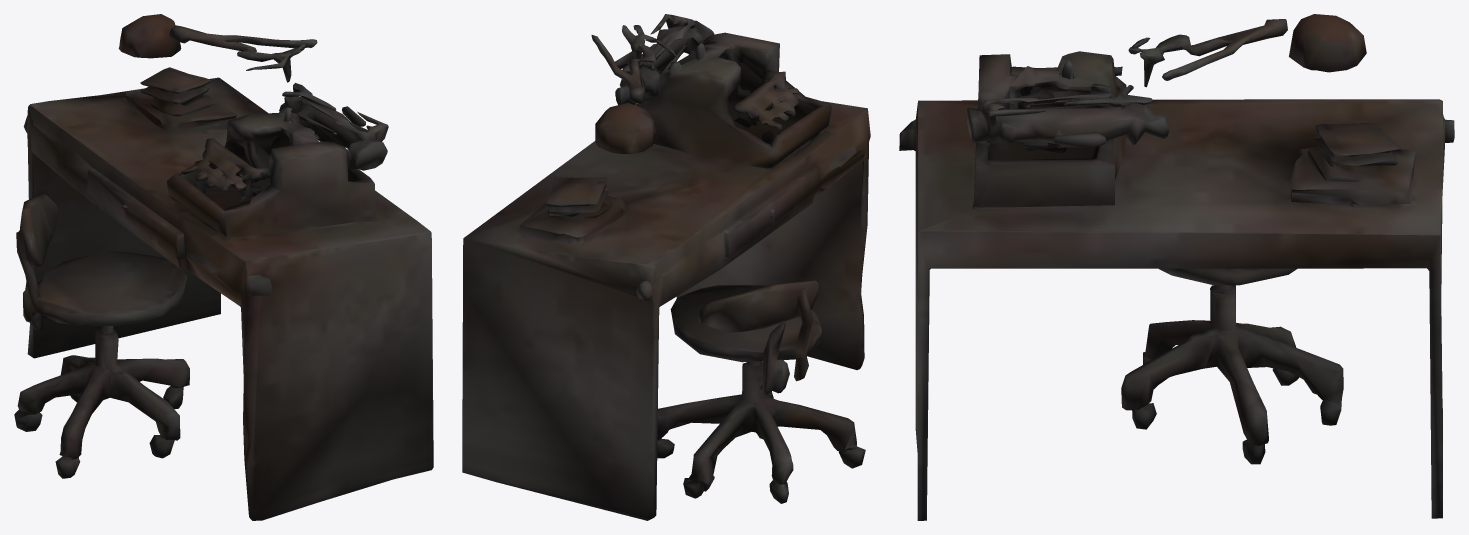
The model's file is chipped-iron-desk-v002.glb.
3 renders of one model, left to right at view 1: azimuth 30°, elevation 25°; view 2: azimuth 150°, elevation 25°; view 3: azimuth 270°, elevation 25°, orthographic. The views are drawn at different scales.
Visible parts, largest first — view 1: chipped-iron-desk; view 2: chipped-iron-desk; view 3: chipped-iron-desk.
Boxes of the visible parts, <box> form: chipped-iron-desk: <box>14,14,433,520</box>; chipped-iron-desk: <box>462,14,870,520</box>; chipped-iron-desk: <box>899,14,1454,520</box>.
Bounding box in the file's own units: 0.5754 × 0.7482 × 0.8127.
Materials: 1 (1 with a texture image).
